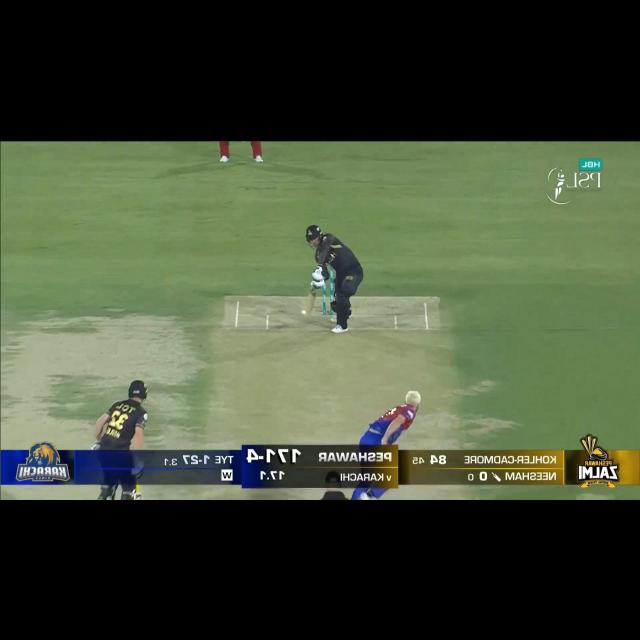bat: (303, 291, 316, 314)
toe: (303, 307, 314, 314)
